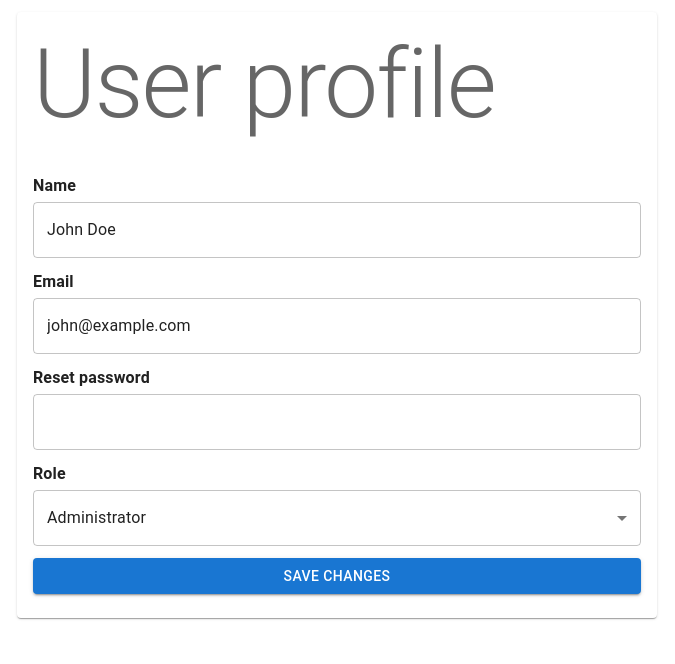
it: ProfileContainer › renders role select with correct value
Note: Open the Select
Click the dropdown at (96, 518), box [47, 508, 146, 527]
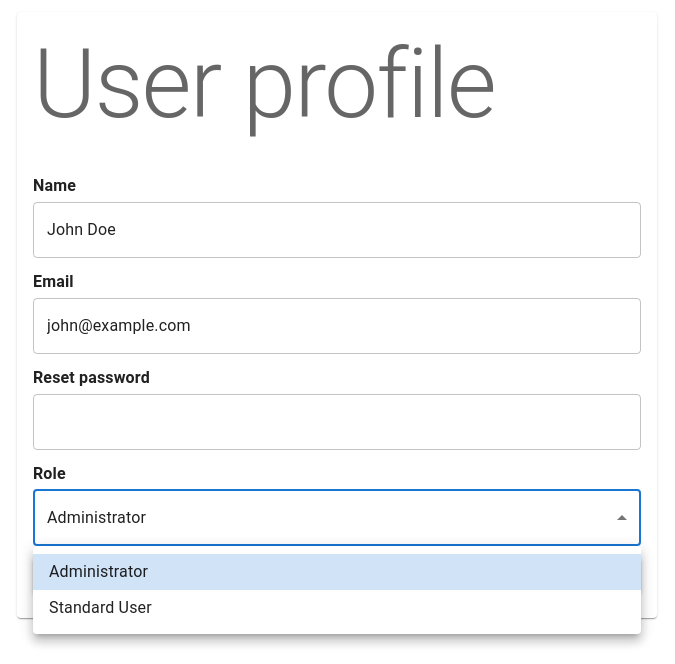
expect the option "Standard User" is shown: met, box [49, 598, 152, 617]
